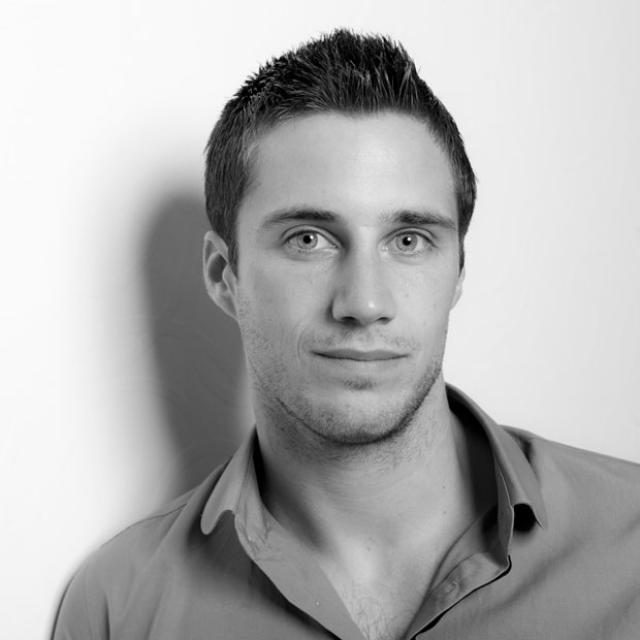mobile_phonerotation: (46, 27, 638, 638)
